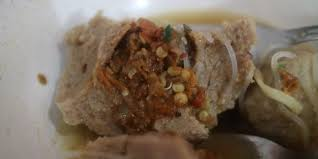bakso: (58, 16, 313, 134)
